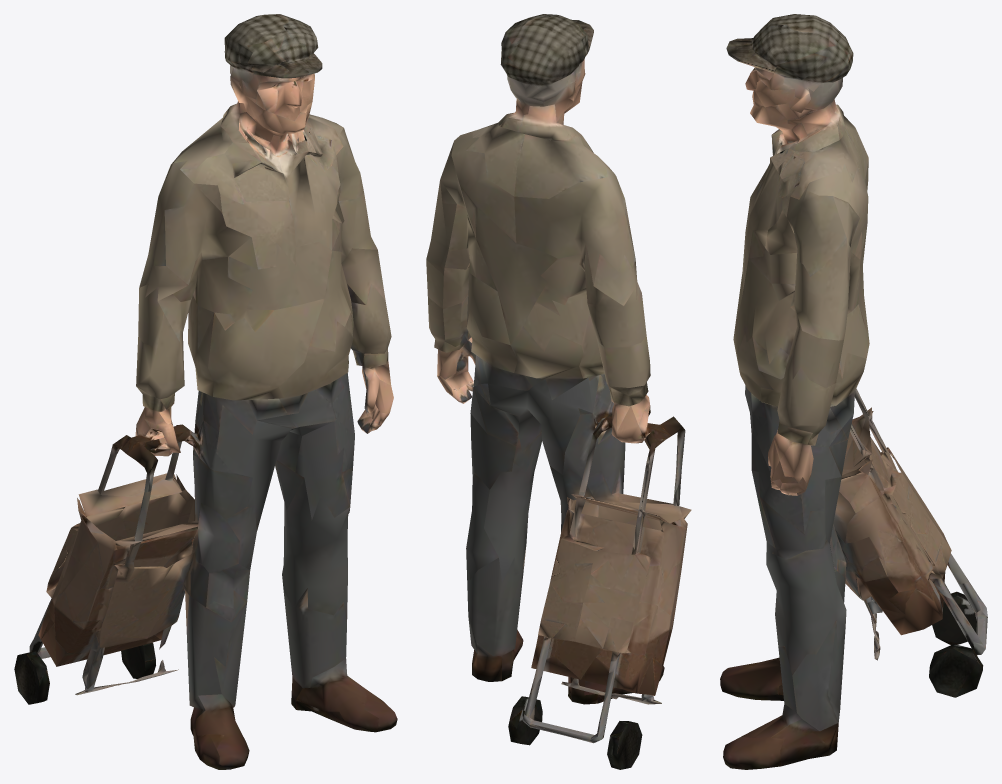
File: getkong-ped3.glb
The picture shows the model from 3 angles, left to right: view 1: azimuth 30°, elevation 25°; view 2: azimuth 150°, elevation 25°; view 3: azimuth 270°, elevation 25°; orthographic projection. The views are drawn at different scales.
Parts seen in each view (by area): view 1: output_unwrapped; view 2: output_unwrapped; view 3: output_unwrapped.
Boxes of the visible parts, <box> form: output_unwrapped: <box>14,14,397,769</box>; output_unwrapped: <box>426,14,691,769</box>; output_unwrapped: <box>720,14,987,769</box>.
Bounding box in the file's own units: 0.8288 × 1.9 × 0.6553.
1 material, 1 textured.
